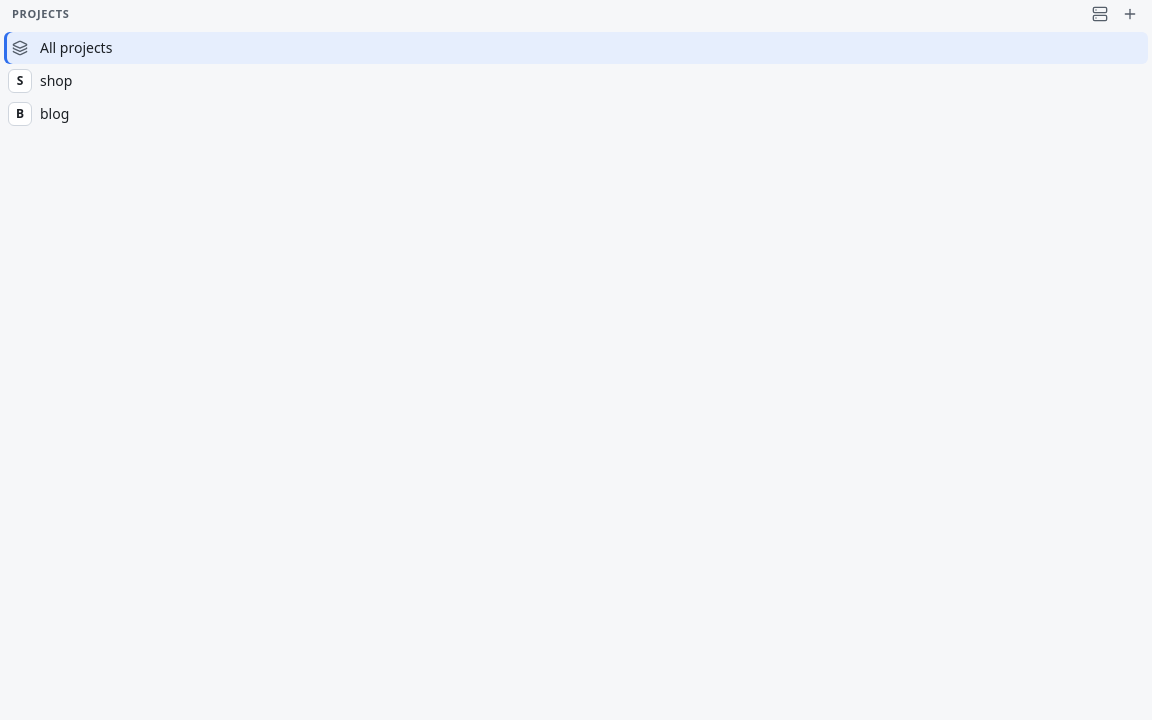
Test case: ProjectsPanel › opens the servers
Click the button named "Servers" at (1100, 14), box [1086, 0, 1114, 28]
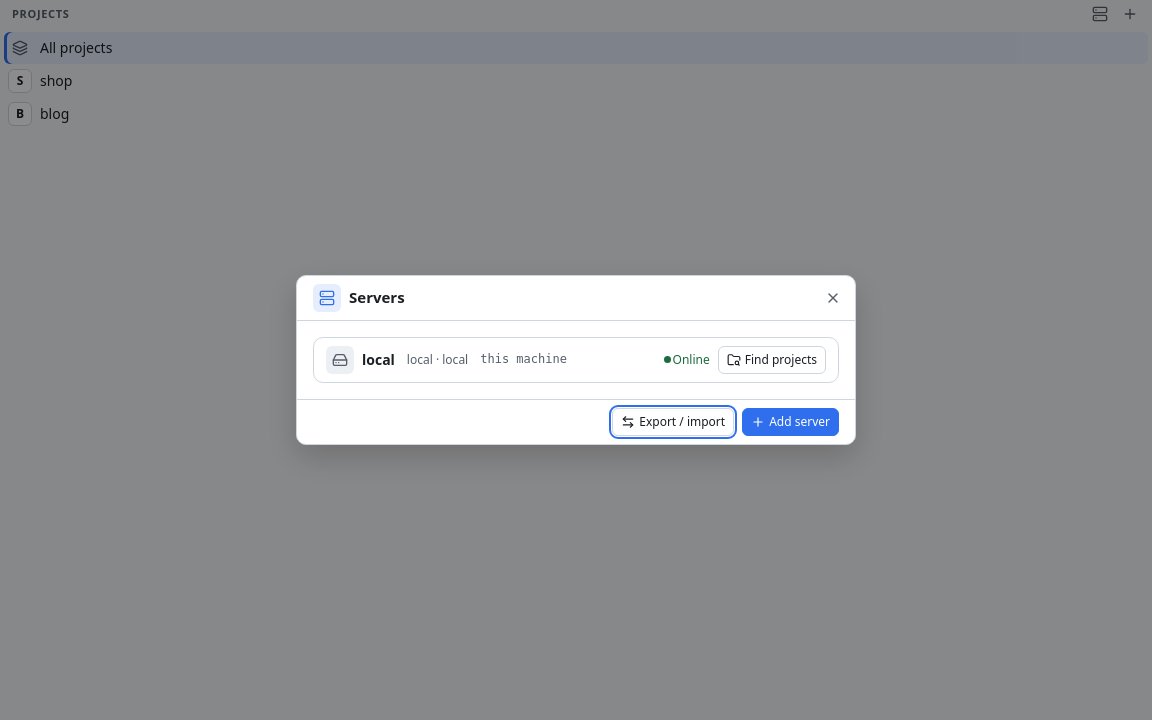
Now the dialog "Servers" is shown, box [296, 275, 856, 445]
